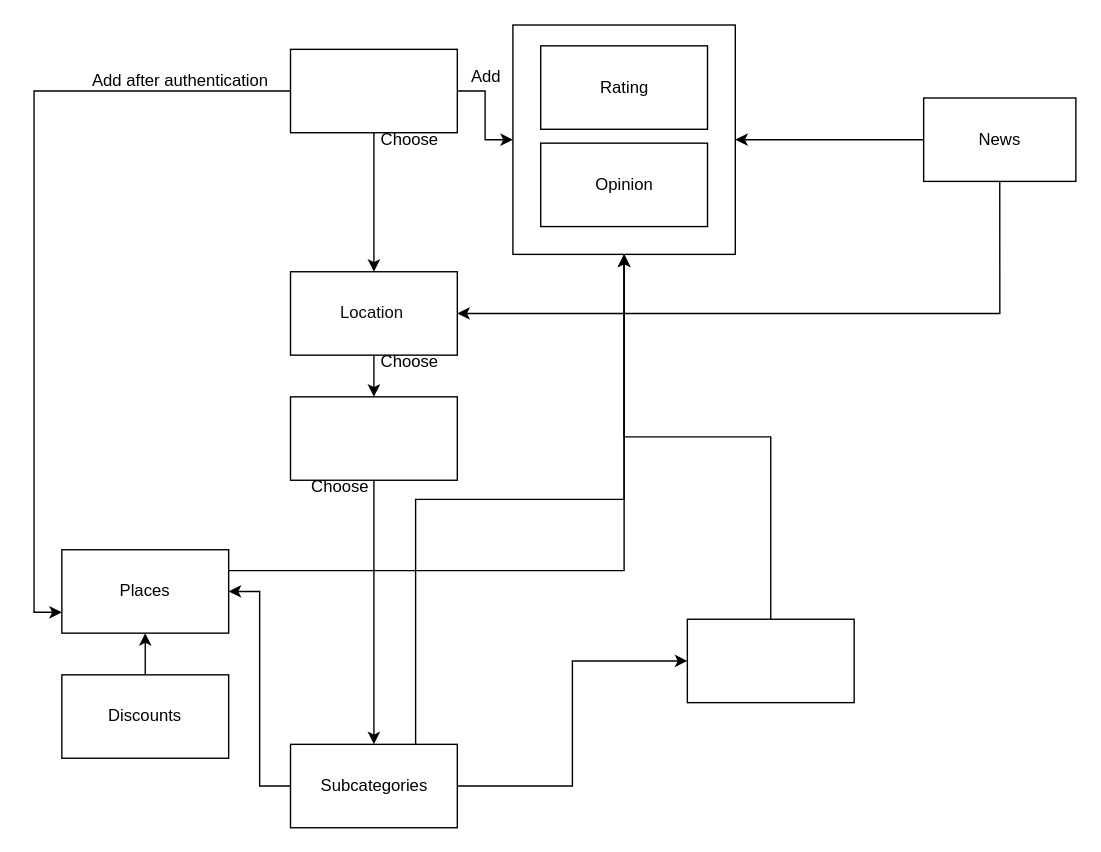
The diagram is 1101 pixels wide and 852 high, and some of its shapes have lost their labels. Here are the shapes that lost their labels. From the top down, the centre of each, then its label:
At point 373,90: "User".
At point 373,437: "Categories".
At point 770,660: "Events".
